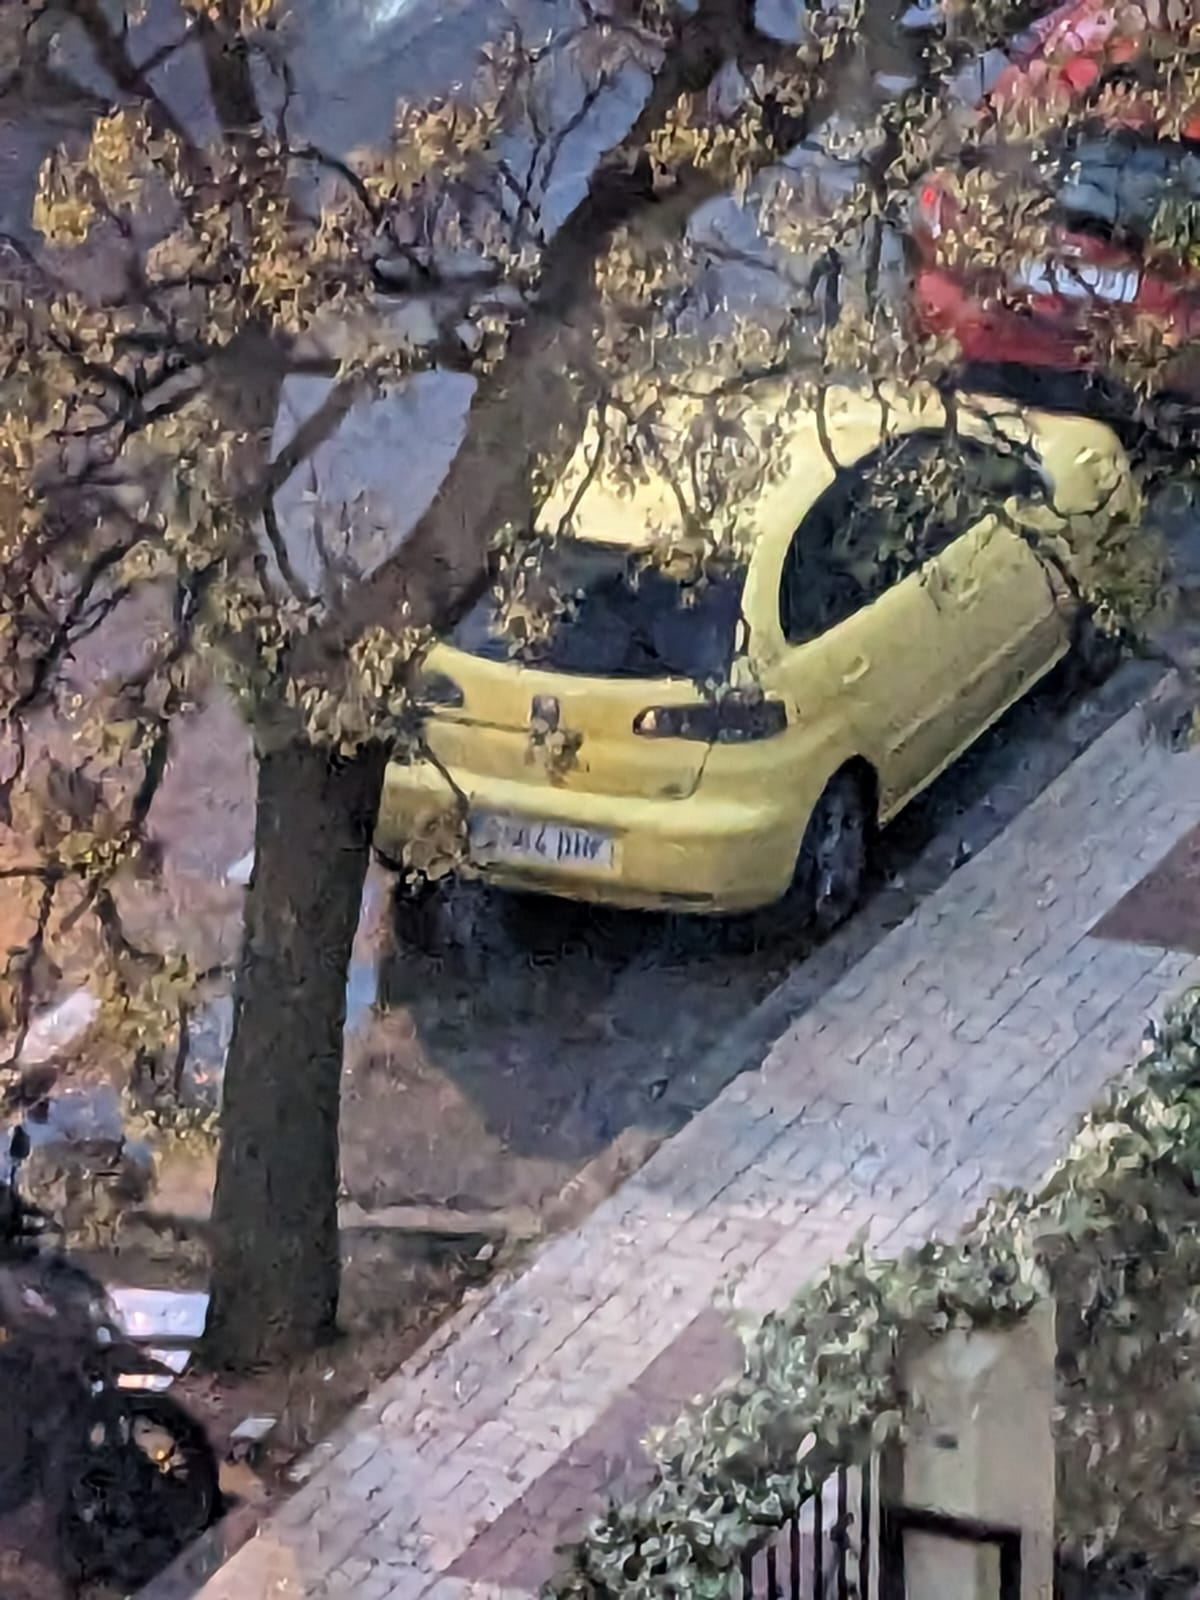car: (339, 392, 1142, 915), (910, 1, 1199, 360)
